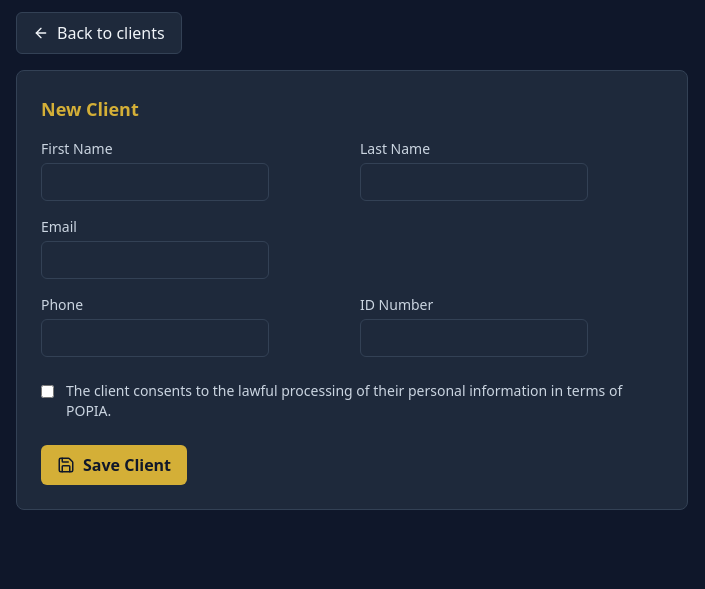
NewClient › shows an error message when the submission fails
Type "Jane" into the field labelled "First Name". click: (155, 182)
box: [41, 163, 269, 201]
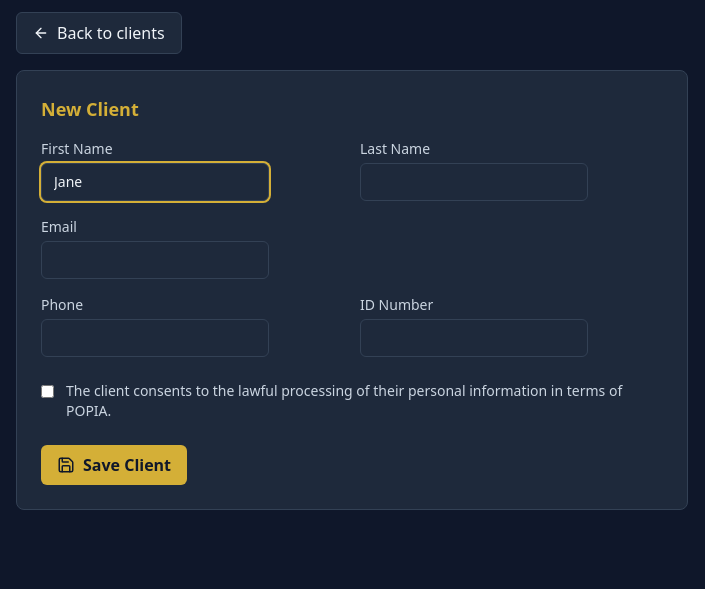
Type "Doe" into the field labelled "Last Name". click: (474, 182)
box: [360, 163, 588, 201]
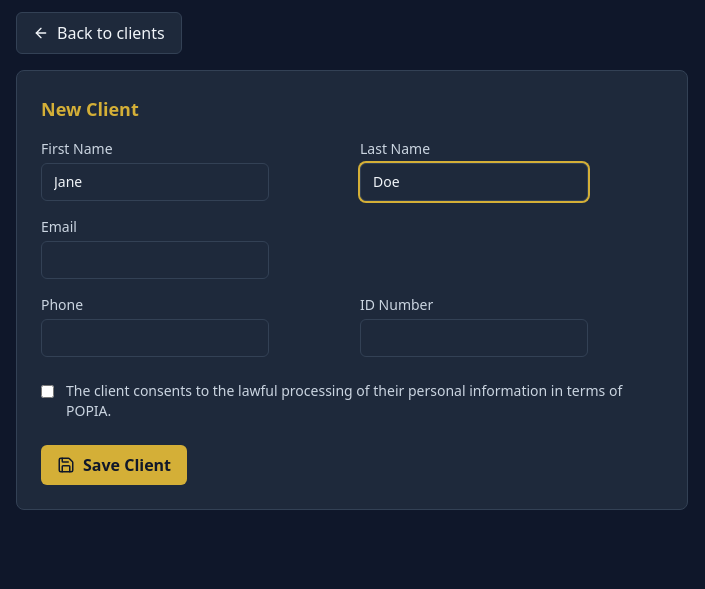
Click the checkbox labelled "consents to the lawful processing". click: (48, 392)
box: [41, 385, 54, 398]
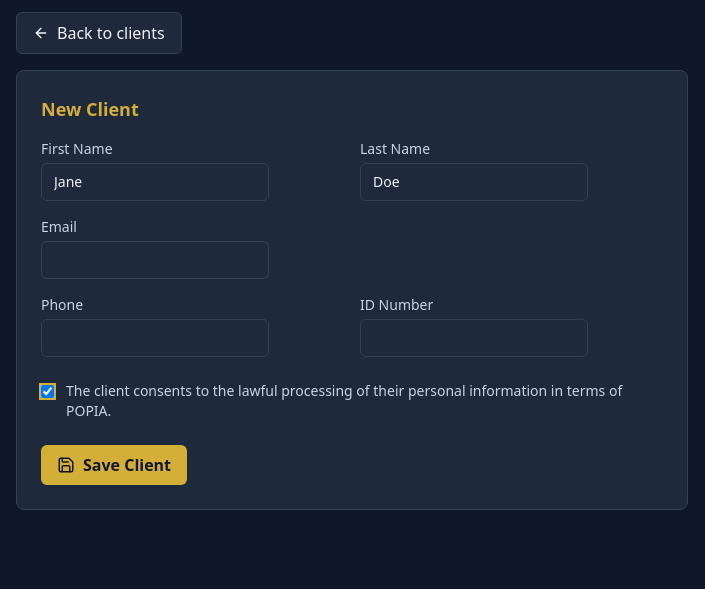
Click the button "Save Client". click: (114, 465)
box: [41, 445, 187, 485]
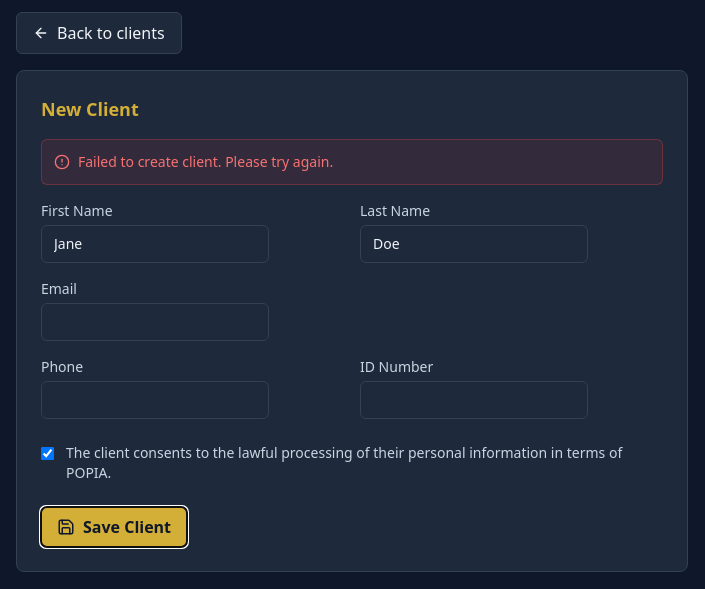
Now the text "Failed to create client. Please try again." is shown, box [41, 139, 663, 185]
